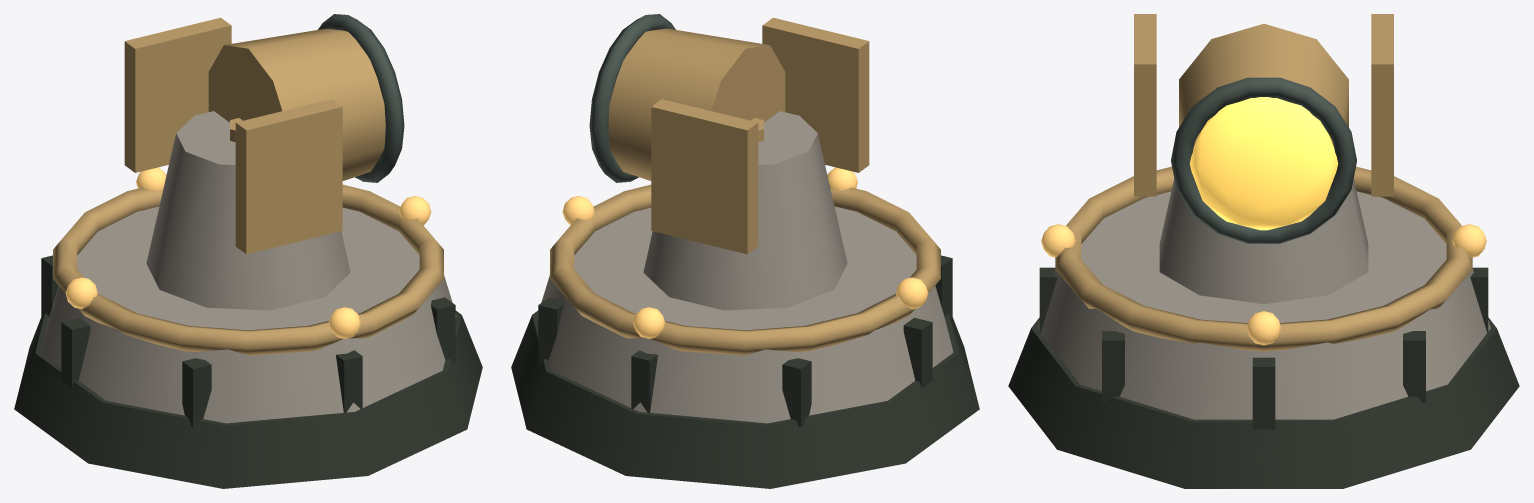
File: tower_laser_laserPrism.glb
The picture shows the model from 3 angles, left to right: view 1: azimuth 30°, elevation 25°; view 2: azimuth 150°, elevation 25°; view 3: azimuth 270°, elevation 25°; orthographic projection. The views are drawn at different scales.
Parts seen in each view (by area): view 1: stone_1, foot_0, column_15, rim_2, lens_housing_17, cooling_fin_20, cooling_fin_21, focus_ring_18, mortar_6, mortar_7, mortar_5, mortar_4 (+5 smaller); view 2: stone_1, foot_0, column_15, rim_2, lens_housing_17, cooling_fin_21, cooling_fin_20, focus_ring_18, mortar_8, mortar_7, mortar_9, mortar_10 (+5 smaller); view 3: stone_1, foot_0, rim_2, lens_glass_19, column_15, focus_ring_18, lens_housing_17, cooling_fin_20, cooling_fin_21, mortar_3, mortar_4, mortar_10 (+5 smaller).
Part boxes in pixels (x1,y1,x2,y2): stone_1: [40, 206, 456, 423]; foot_0: [14, 310, 482, 488]; column_15: [146, 111, 350, 310]; rim_2: [53, 184, 443, 355]; lens_housing_17: [208, 28, 385, 180]; cooling_fin_20: [235, 99, 342, 254]; cooling_fin_21: [124, 17, 231, 172]; focus_ring_18: [318, 14, 404, 182]; mortar_6: [182, 358, 211, 427]; mortar_7: [61, 317, 90, 387]; mortar_5: [336, 350, 362, 412]; mortar_4: [431, 297, 455, 363]; stone_1: [537, 206, 953, 423]; foot_0: [511, 310, 979, 488]; column_15: [643, 111, 847, 310]; rim_2: [550, 184, 940, 355]; lens_housing_17: [608, 28, 785, 180]; cooling_fin_21: [651, 99, 758, 254]; cooling_fin_20: [762, 17, 869, 172]; focus_ring_18: [589, 14, 675, 182]; mortar_8: [782, 358, 811, 427]; mortar_7: [903, 317, 932, 387]; mortar_9: [631, 350, 657, 412]; mortar_10: [538, 297, 562, 363]; stone_1: [1037, 191, 1490, 419]; foot_0: [1008, 317, 1519, 488]; rim_2: [1055, 166, 1472, 351]; lens_glass_19: [1189, 97, 1338, 230]; column_15: [1159, 179, 1368, 303]; focus_ring_18: [1171, 77, 1356, 243]; lens_housing_17: [1179, 23, 1348, 181]; cooling_fin_20: [1134, 14, 1156, 196]; cooling_fin_21: [1371, 14, 1393, 196]; mortar_3: [1252, 357, 1275, 429]; mortar_4: [1102, 331, 1124, 402]; mortar_10: [1403, 331, 1425, 402].
Bounding box in the file's own units: 0.5326 × 0.4405 × 0.56.
